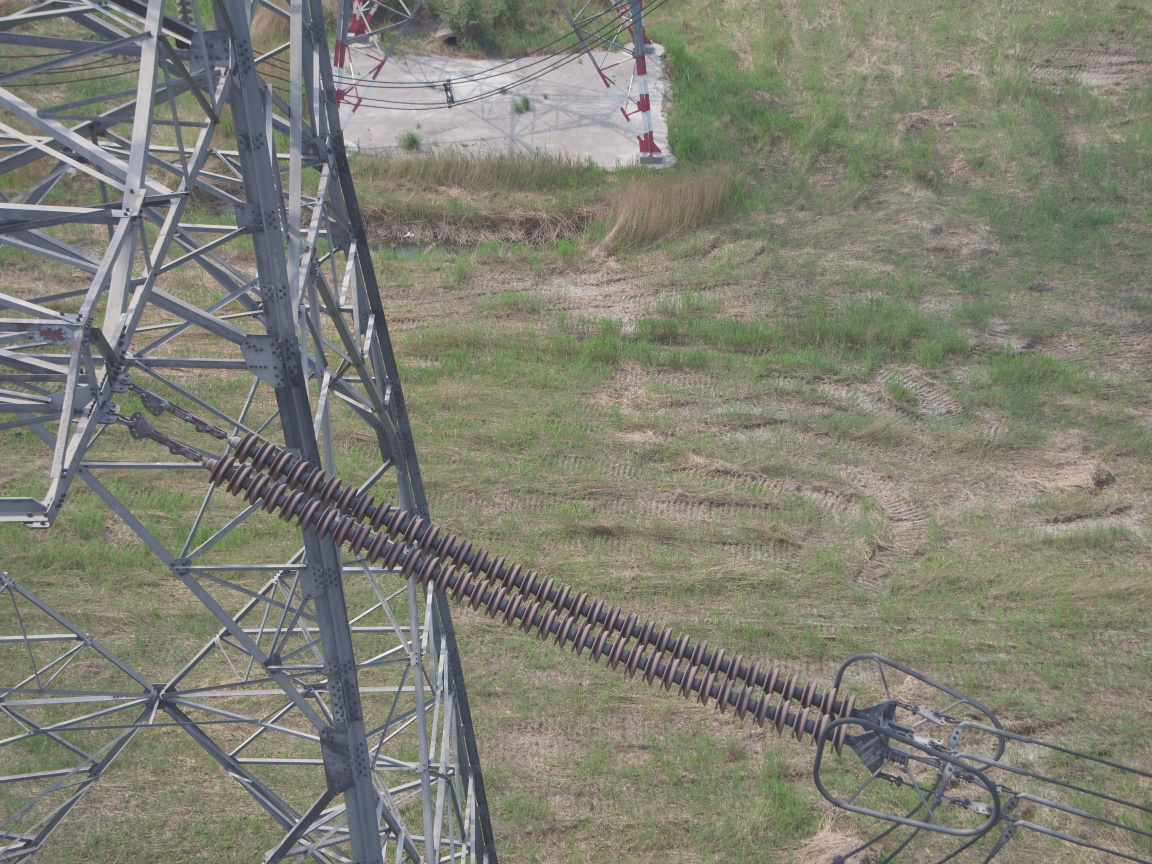insulator: (176, 418, 872, 760)
